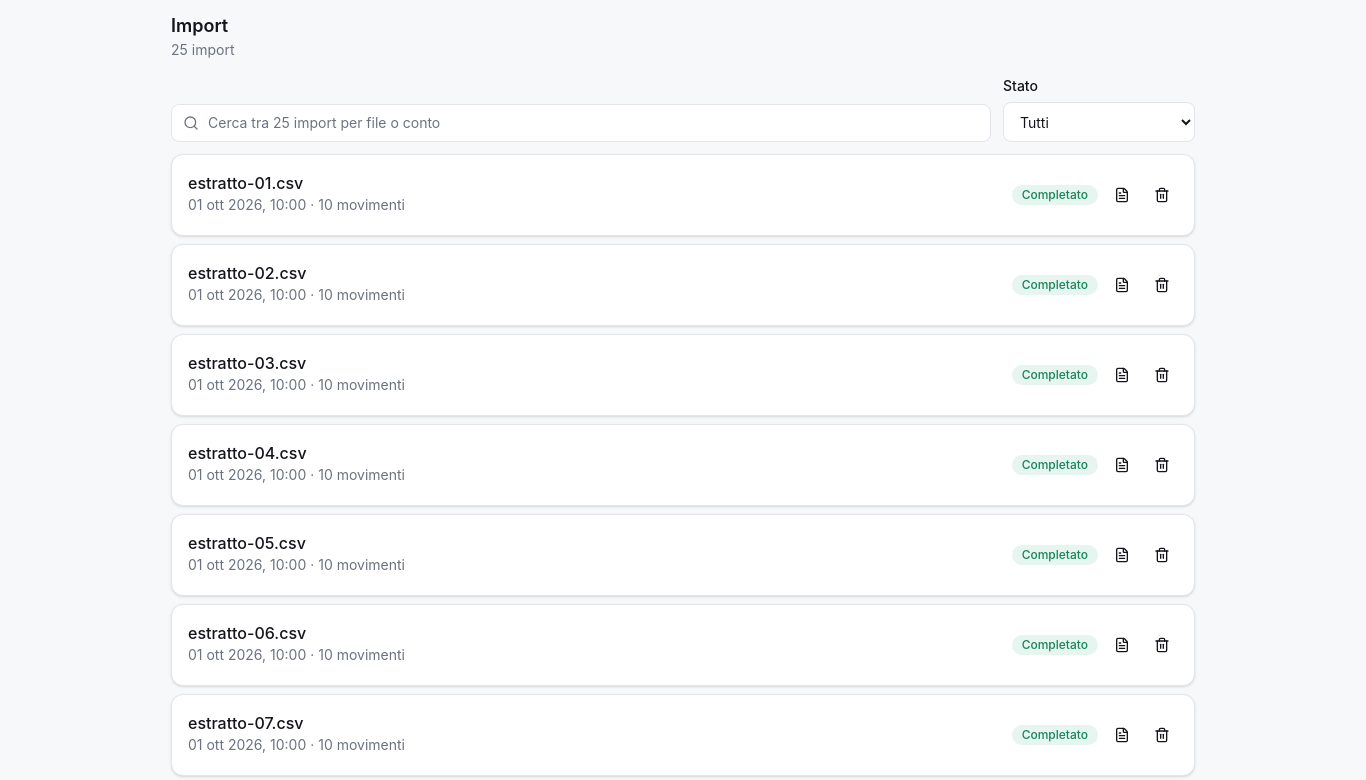
it: Elenco import › cerca per nome del file
The image size is (1366, 780).
Expected: the text "estratto-01.csv" is shown, [188,173,303,193]
In the search field named "Cerca negli import": (581,123) [171,104,991,142], type "estratto-17"
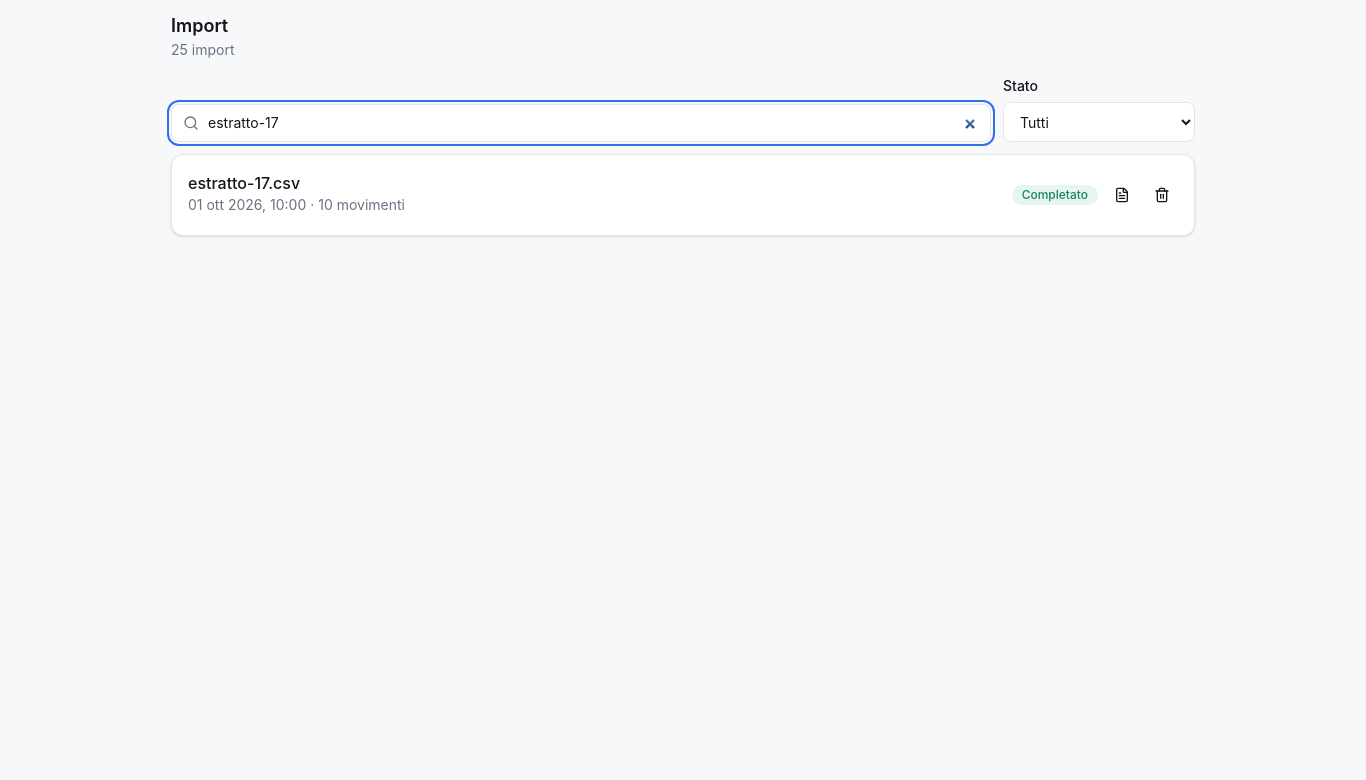
Expected: the text "estratto-17.csv" is shown, [188,173,300,193]
Expected: the text "estratto-01.csv" is gone
